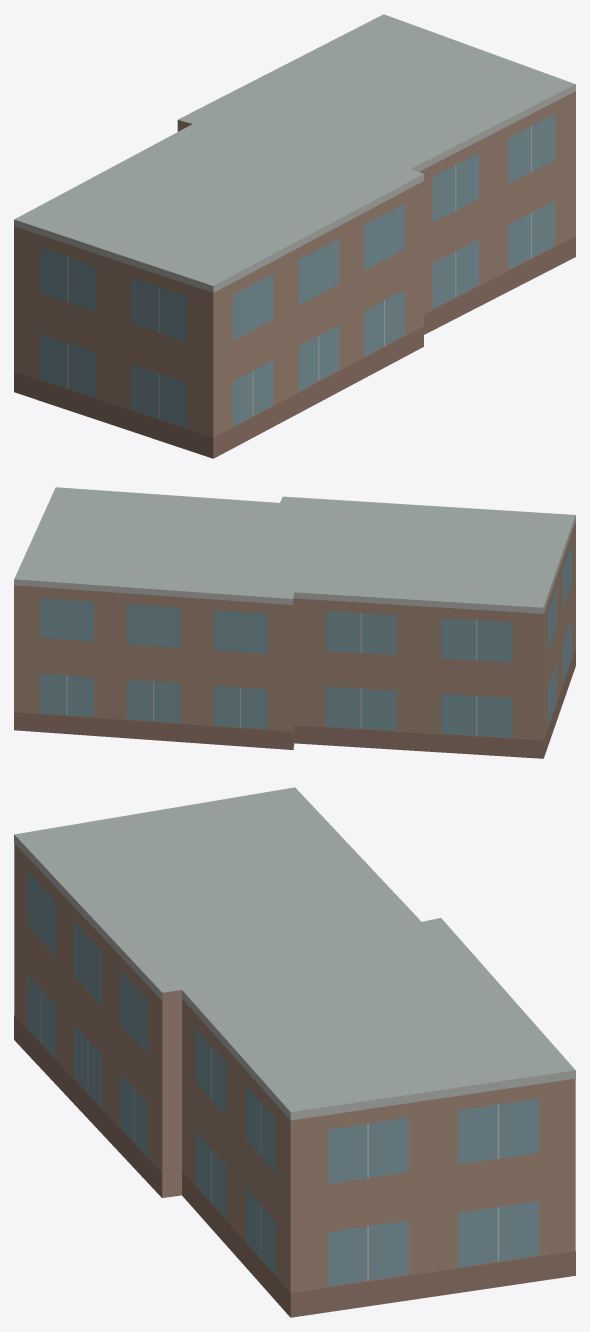
Rendered from survey-upis-32834253.glb.
3 renders of one model, top to bottom at view 1: azimuth 30°, elevation 25°; view 2: azimuth 150°, elevation 25°; view 3: azimuth 270°, elevation 25°, orthographic. The views are drawn at different scales.
Visible parts, largest first — view 1: survey-upis-32834253.tmp; view 2: survey-upis-32834253.tmp; view 3: survey-upis-32834253.tmp.
Boxes of the visible parts, left/top/right/bottom form: survey-upis-32834253.tmp: left=14, top=14, right=575, bottom=458; survey-upis-32834253.tmp: left=14, top=487, right=575, bottom=758; survey-upis-32834253.tmp: left=14, top=787, right=575, bottom=1317.
Bounding box in the file's own units: 20.72 × 6.1 × 15.13.
